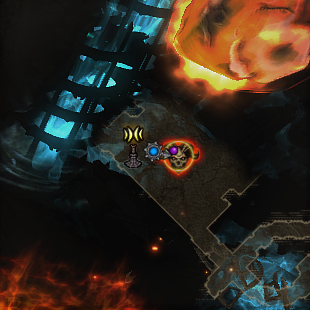ChannPylon: (121, 122, 144, 168)
Guardian: (154, 139, 203, 176)
